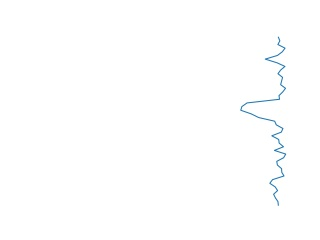interdistributaryEstuary: (236, 38, 290, 207)
